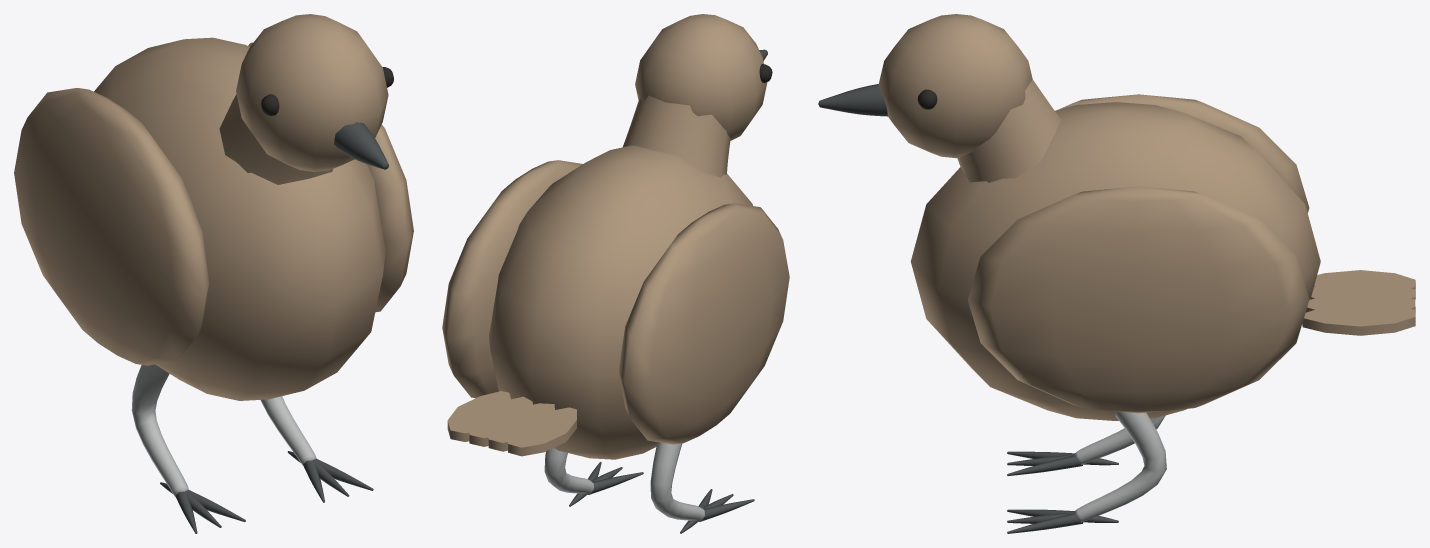
The model's file is birds-and-flying-creatures-wren-b54a1c40__20623.glb.
The picture shows the model from 3 angles, left to right: view 1: azimuth 30°, elevation 25°; view 2: azimuth 150°, elevation 25°; view 3: azimuth 270°, elevation 25°; orthographic projection. The views are drawn at different scales.
Visible parts, largest first — view 1: wren; view 2: wren; view 3: wren.
Part boxes in pixels (<box>): wren: <box>14,14,413,533</box>; wren: <box>442,14,789,533</box>; wren: <box>818,14,1415,533</box>.
Size of the model in its own units: 0.0522 by 0.0919 by 0.1049.
